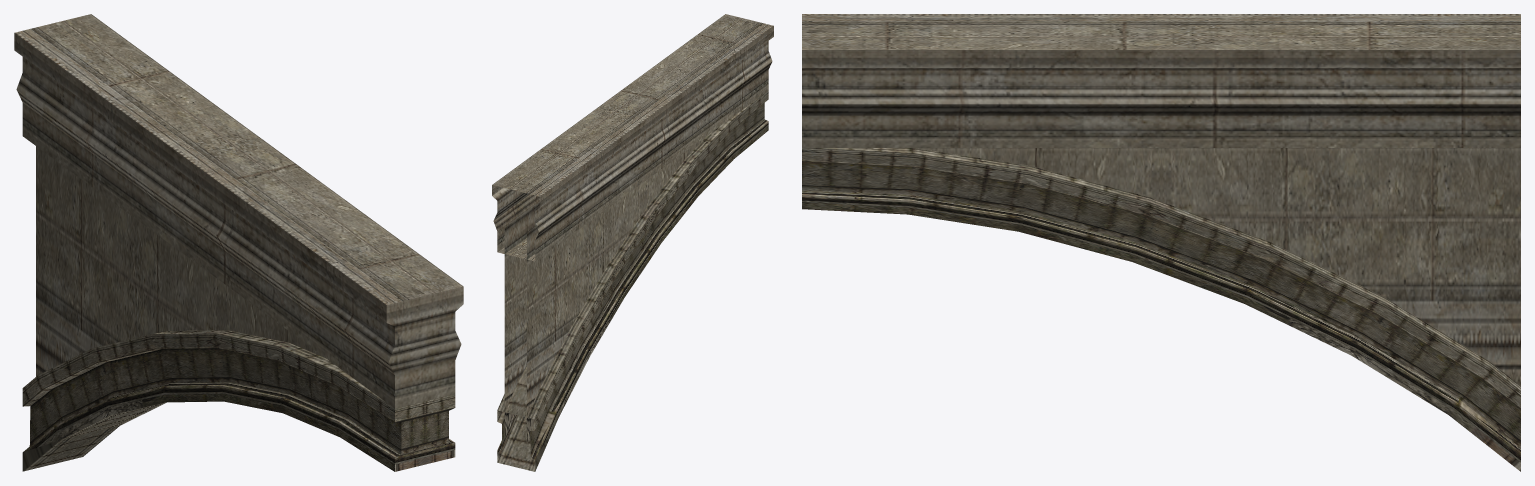
File: SM_Plains_Buttress_02.FBX
3 renders of one model, left to right at view 1: azimuth 30°, elevation 25°; view 2: azimuth 150°, elevation 25°; view 3: azimuth 270°, elevation 25°, orthographic. The views are drawn at different scales.
Visible parts, largest first — view 1: SM_Plains_Buttress_02; view 2: SM_Plains_Buttress_02; view 3: SM_Plains_Buttress_02.
Boxes of the visible parts, x1,y1,x2,y2 form: SM_Plains_Buttress_02: (14, 14, 463, 471); SM_Plains_Buttress_02: (492, 14, 773, 471); SM_Plains_Buttress_02: (802, 14, 1520, 471).
Bounding box in the file's own units: 24.02 × 132 × 202.
